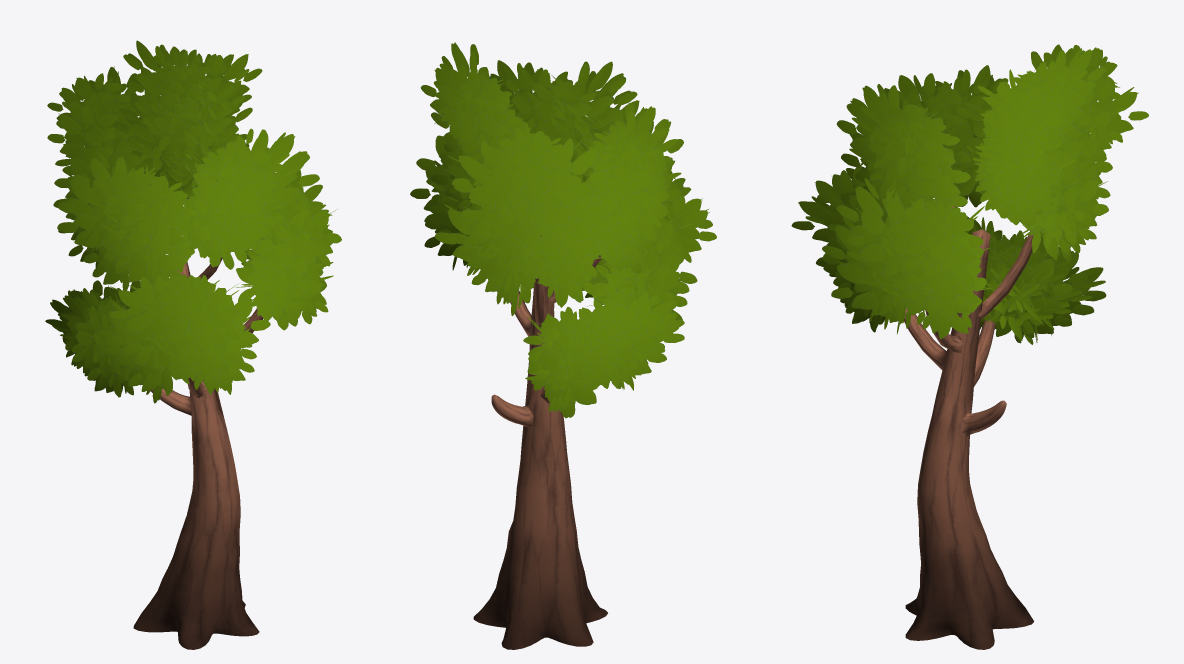
Rendered from CommonTree_5.glb.
The picture shows the model from 3 angles, left to right: view 1: azimuth 30°, elevation 25°; view 2: azimuth 150°, elevation 25°; view 3: azimuth 270°, elevation 25°; orthographic projection. The views are drawn at different scales.
Visible parts, largest first — view 1: CommonTree_5; view 2: CommonTree_5; view 3: CommonTree_5.
Boxes of the visible parts, bbox=[...] form: CommonTree_5: bbox=[45, 40, 341, 649]; CommonTree_5: bbox=[410, 42, 716, 649]; CommonTree_5: bbox=[791, 44, 1148, 649].
Size of the model in its own units: 3.67 by 7.01 by 4.22.
2 materials, 2 textured.
